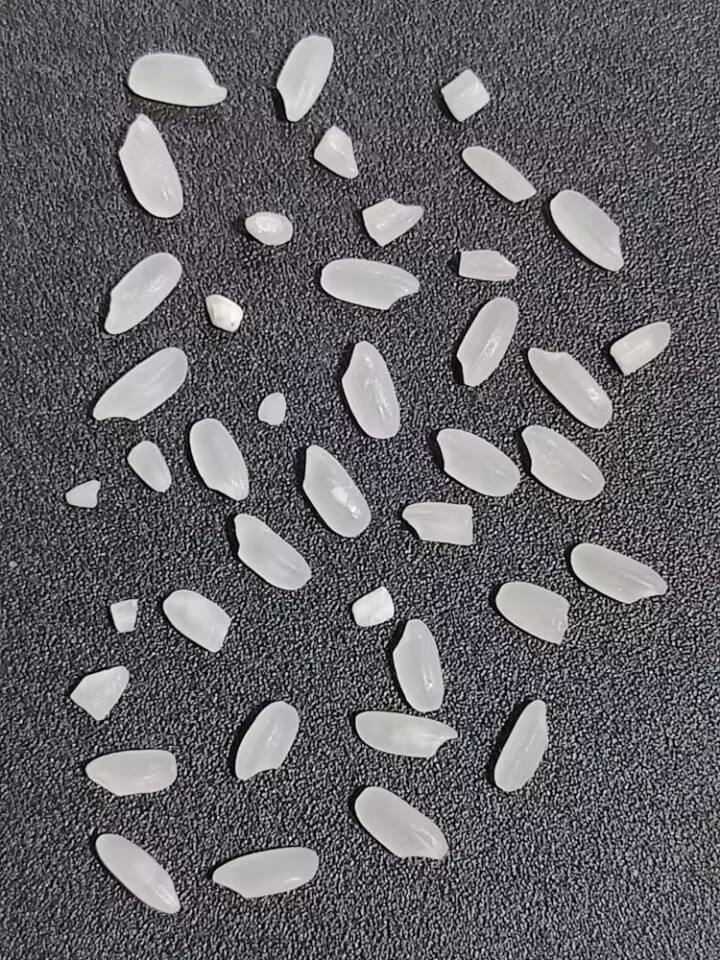broken: (494, 581, 570, 645), (162, 589, 229, 653), (609, 317, 673, 378), (68, 663, 131, 723), (400, 500, 475, 548), (360, 196, 426, 247), (437, 67, 494, 126), (312, 125, 361, 181), (126, 439, 174, 495), (455, 246, 523, 284), (240, 207, 296, 249), (201, 289, 251, 335), (103, 590, 146, 643), (350, 586, 395, 627), (253, 387, 293, 430), (64, 476, 102, 510)
rice: (114, 109, 187, 219), (90, 345, 190, 425), (92, 831, 183, 918), (523, 345, 615, 430), (300, 444, 373, 540), (102, 250, 183, 336), (355, 786, 448, 860), (124, 48, 233, 111), (548, 186, 626, 274), (520, 424, 605, 501), (436, 424, 522, 499), (453, 296, 520, 389), (341, 338, 401, 441), (234, 513, 312, 591), (570, 542, 667, 603), (318, 256, 421, 313), (211, 847, 320, 899), (234, 700, 301, 781), (493, 697, 550, 792), (275, 33, 335, 123), (188, 417, 252, 501), (392, 617, 444, 712), (354, 711, 459, 758), (458, 144, 537, 206), (82, 748, 179, 797)
